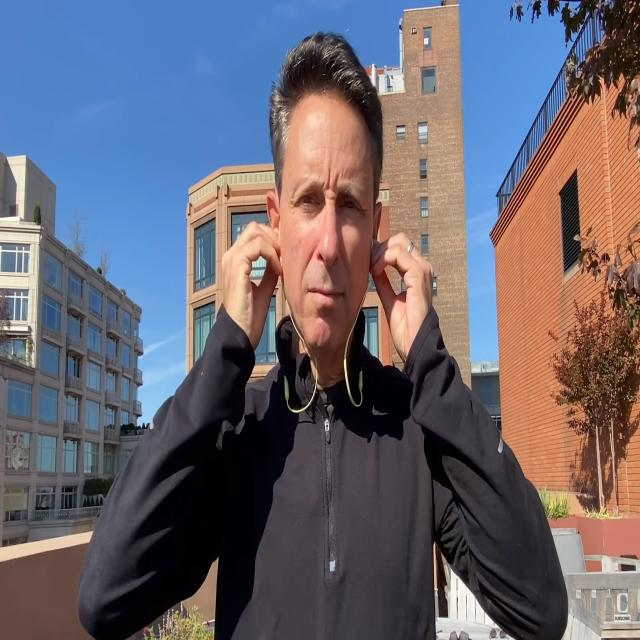Neckband: (274, 226, 374, 414)
